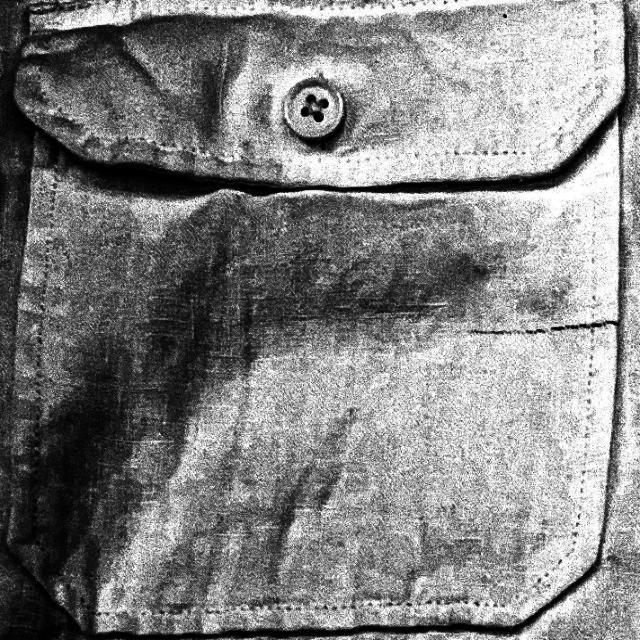Foreign_yarn: (470, 308, 640, 343)
